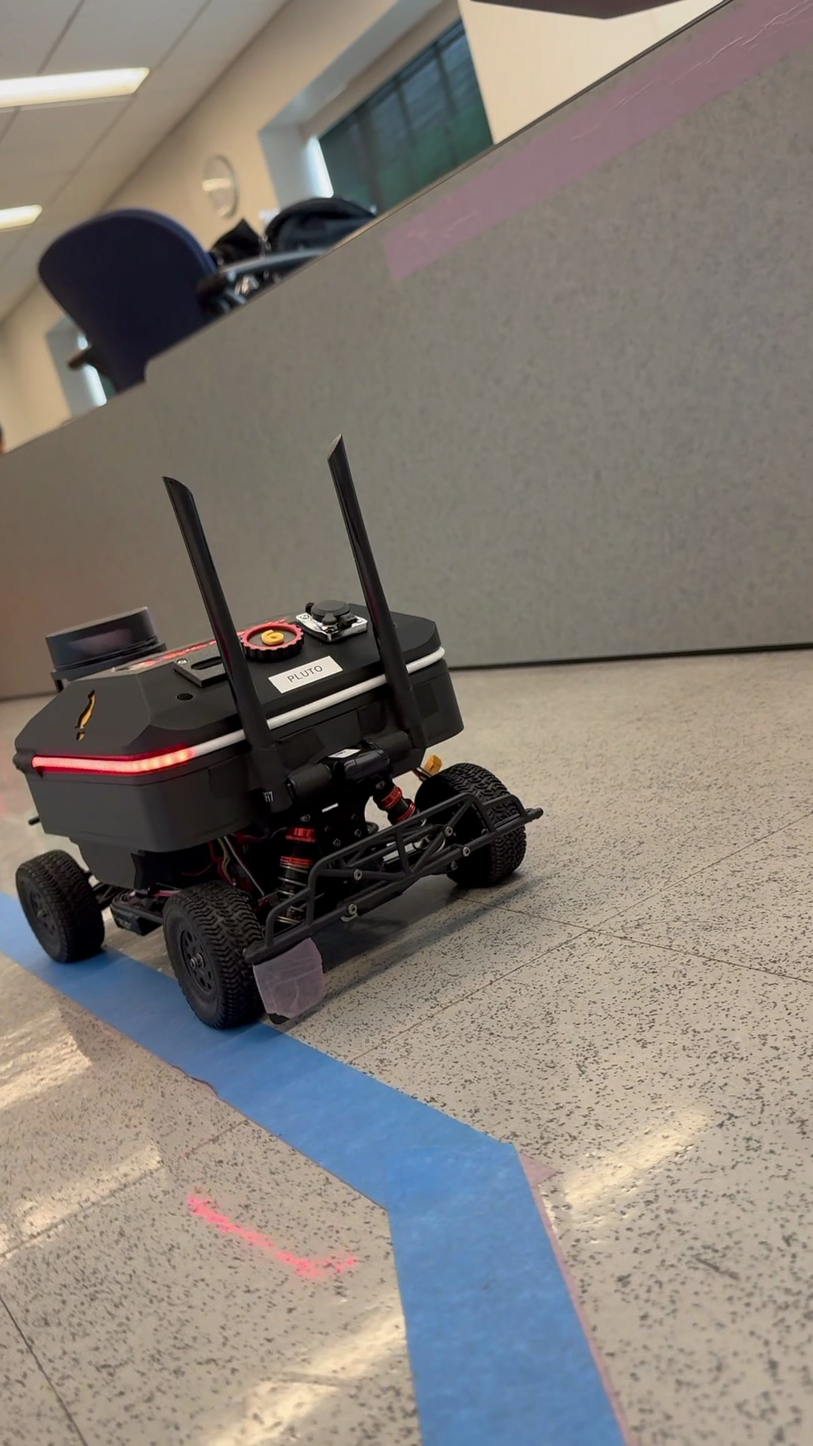racecar: (6, 442, 543, 1039)
